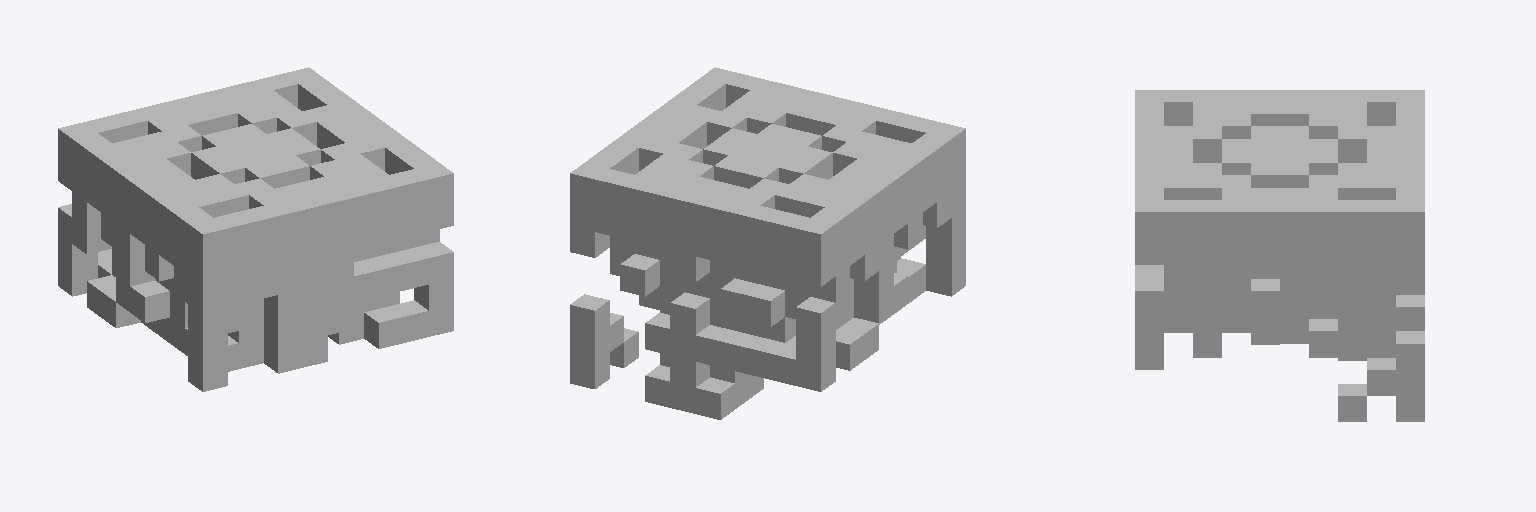
Rendered from desert platform.obj.
The picture shows the model from 3 angles: view 1: azimuth 30°, elevation 25°; view 2: azimuth 150°, elevation 25°; view 3: azimuth 270°, elevation 25°; orthographic projection.
Visible parts, largest first — view 1: object 1; view 2: object 1; view 3: object 1.
Part boxes in pixels (x1,y1,x2,y2): object 1: (58,67,453,391); object 1: (570,67,965,419); object 1: (1135,90,1424,421).
Size of the model in its own units: 1 by 0.8 by 1.